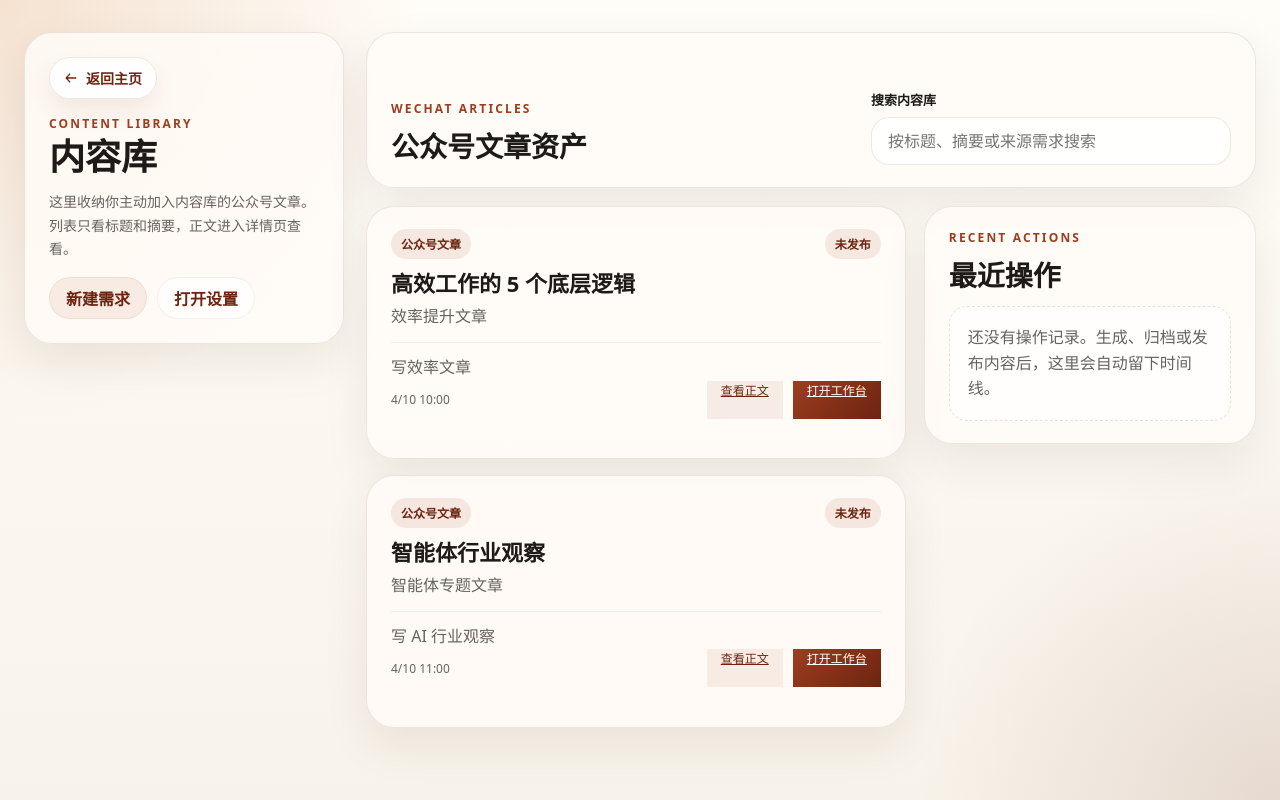
Test: WechatLibraryShell › filters articles by search keyword
This screenshot has width=1280, height=800.
Type "智能体" into the search field labelled "搜索内容库" at point(1051, 141), box [871,117,1231,165]
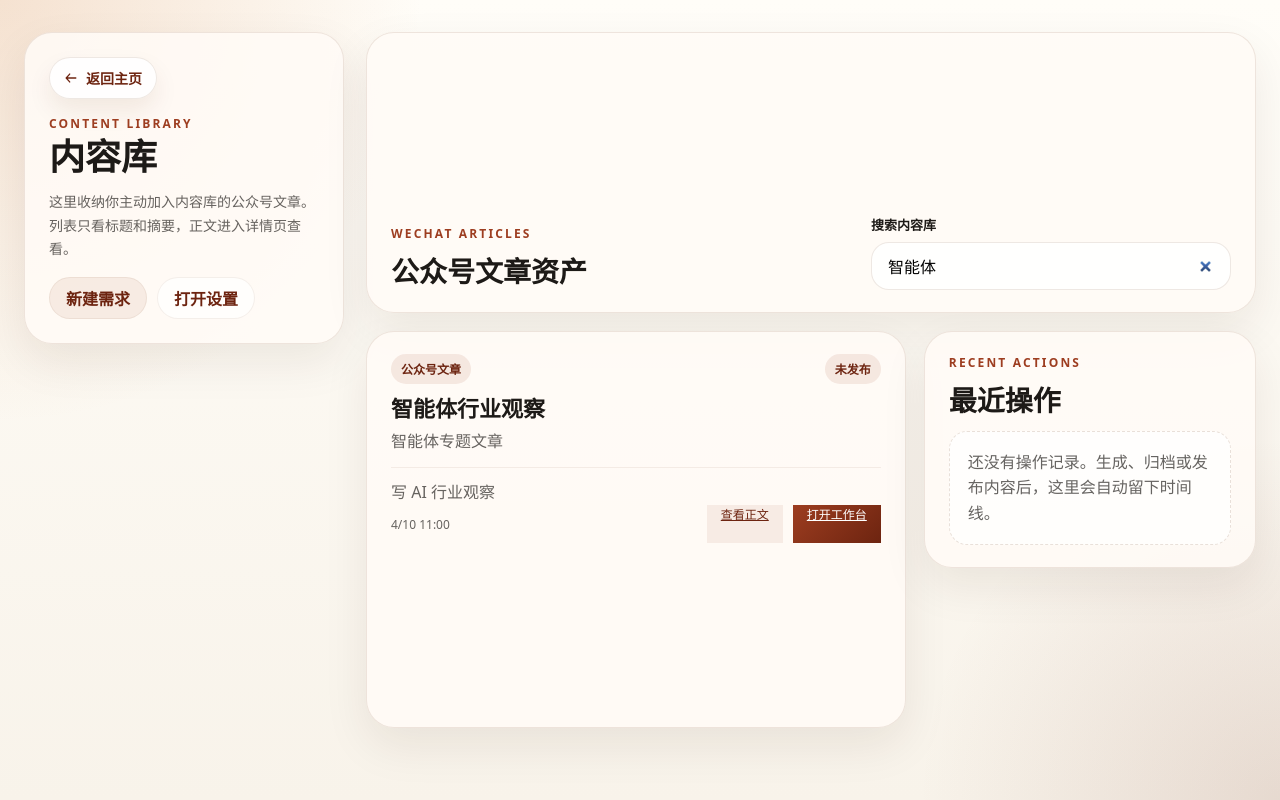
Expected: the heading "智能体行业观察" is shown, [391,393,545,423]
Expected: the heading "高效工作的 5 个底层逻辑" is gone
